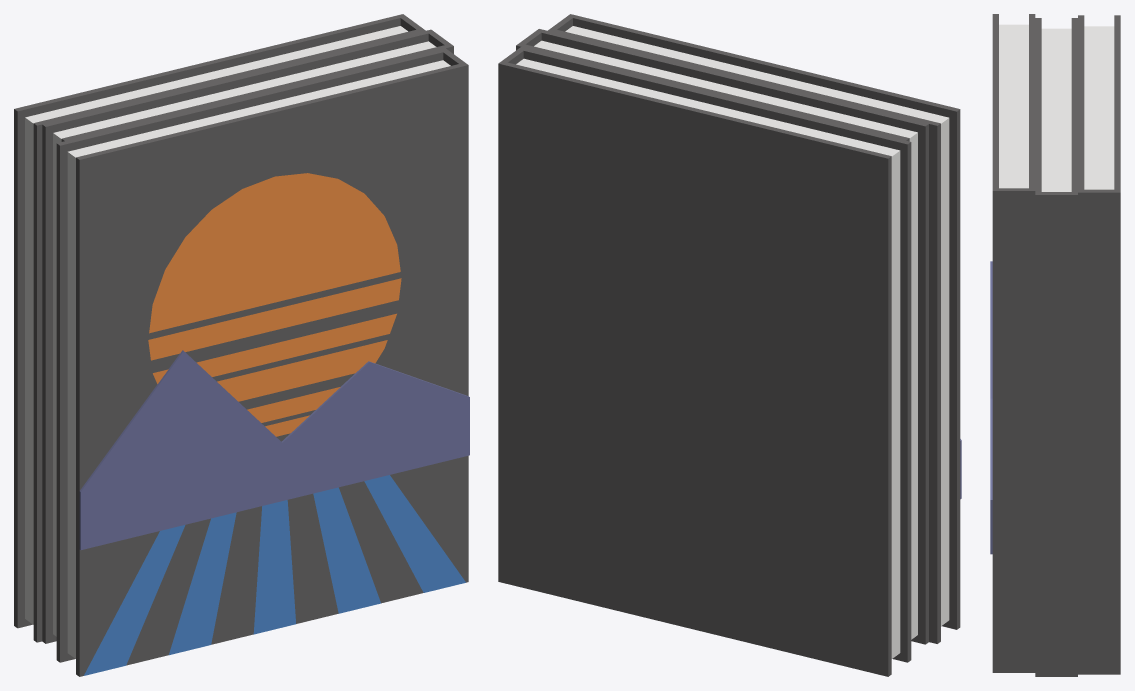
Rendered from Magazines_1.fbx.
3 views of the same model, side by side, from view 1: azimuth 30°, elevation 25°; view 2: azimuth 150°, elevation 25°; view 3: azimuth 270°, elevation 25° (orthographic). The views are drawn at different scales.
Visible parts, largest first — view 1: Magazines_1; view 2: Magazines_1; view 3: Magazines_1.
Boxes of the visible parts, x1,y1,x2,y2 form: Magazines_1: (14, 14, 469, 676); Magazines_1: (498, 14, 961, 676); Magazines_1: (990, 14, 1120, 676).
Bounding box in the file's own units: 32.28 × 9.83 × 40.12.
